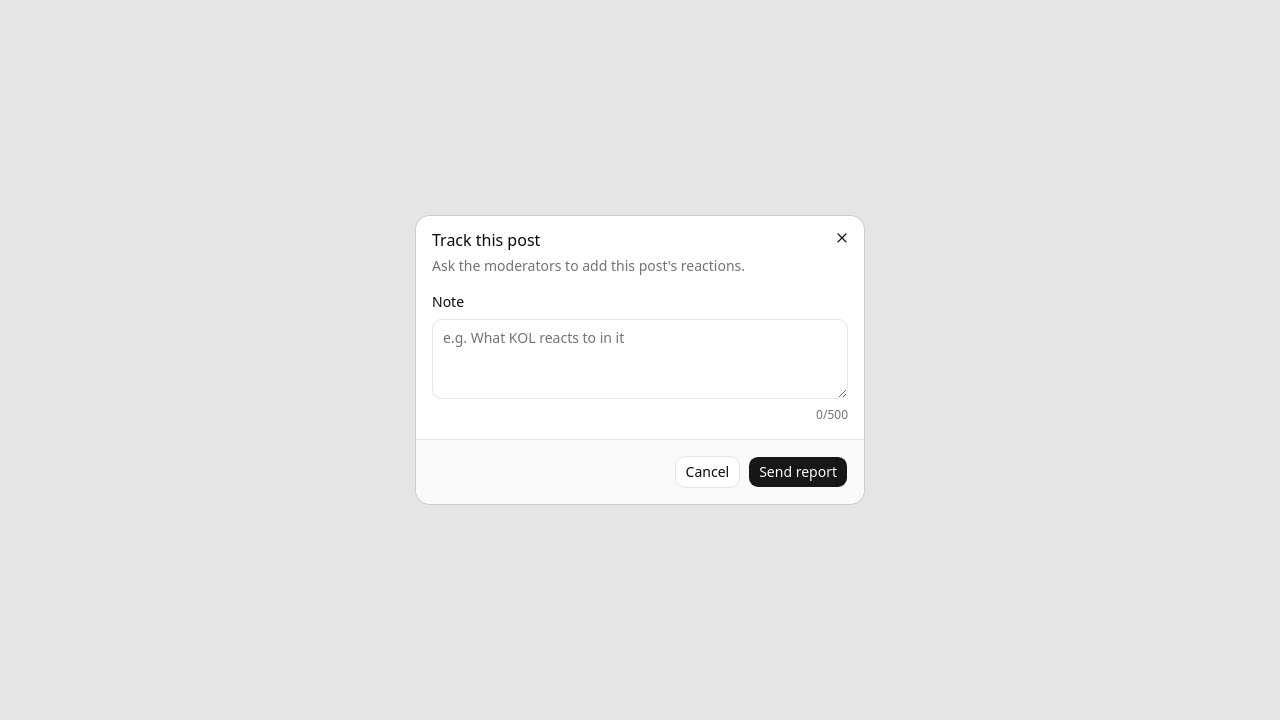
reportDialog › shows why a report was refused, and can be sent again
Click the button "Send report" at (798, 472), box [748,456,848,488]
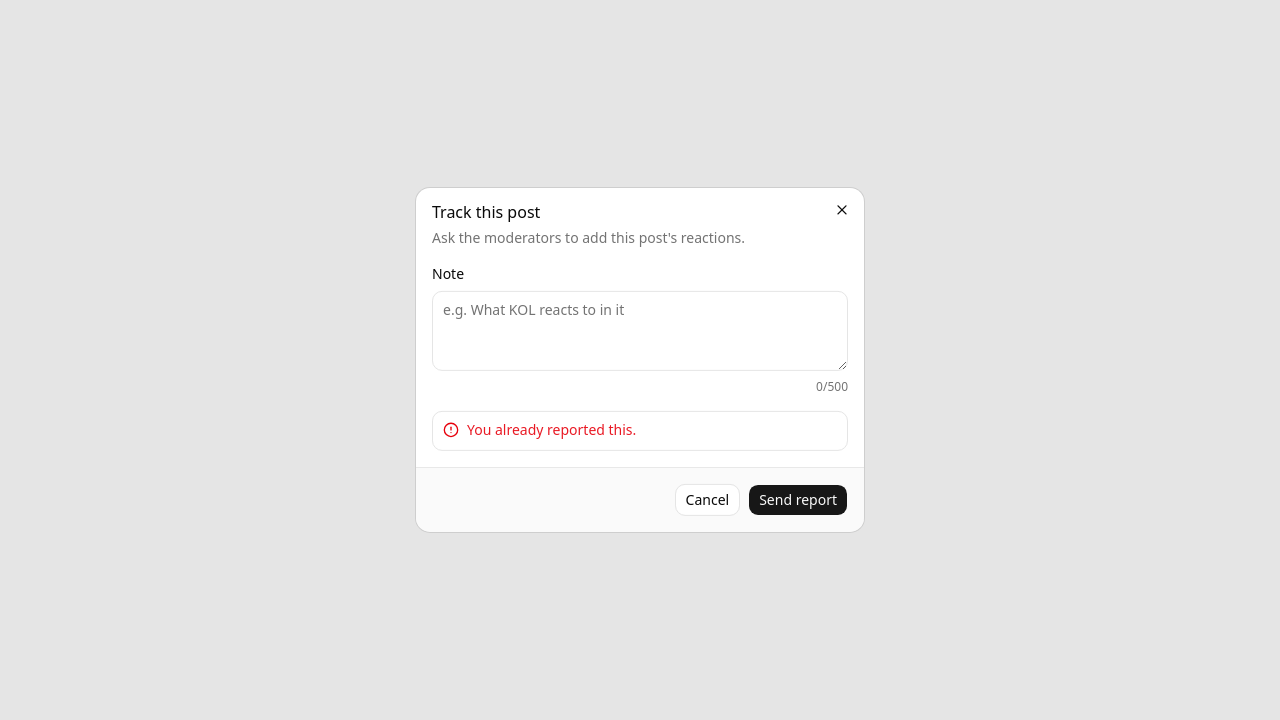
Result: the message reads "You already reported this." at [467,420,636,439]
Click the button "Send report" at (798, 500), box [748,484,848,516]
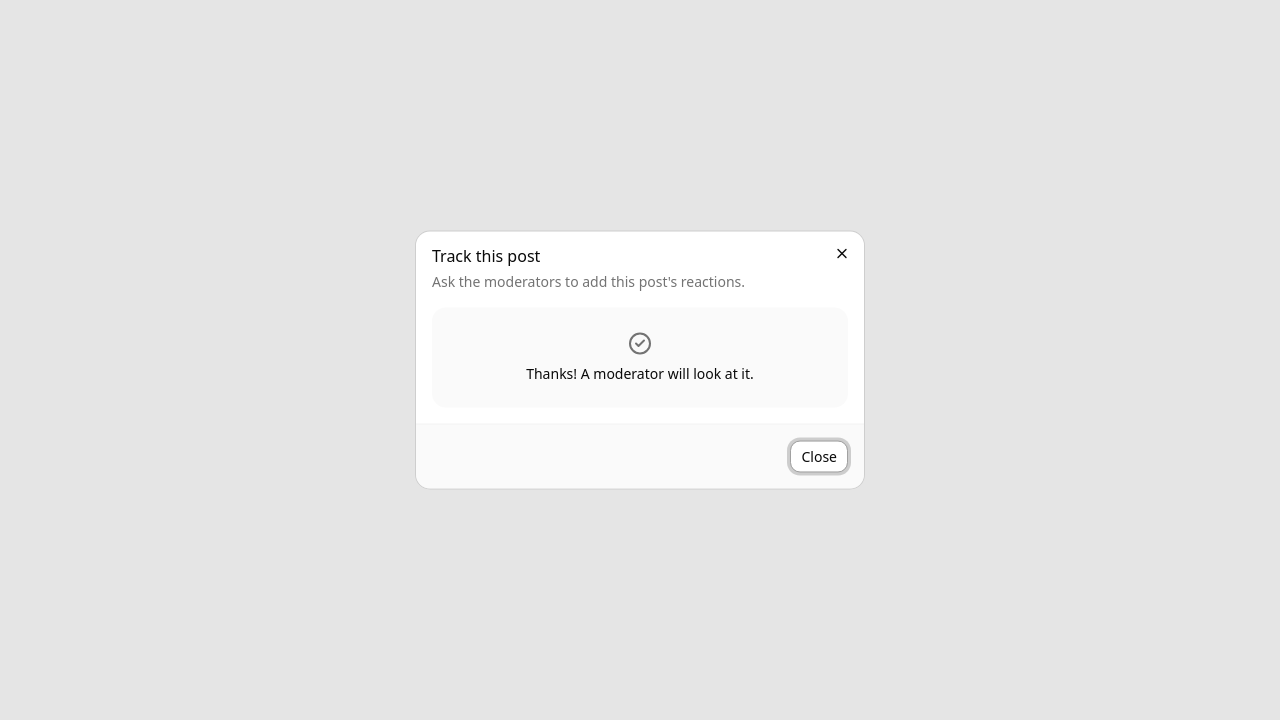
Result: the text "Thanks! A moderator will look at it." is shown at [526,364,754,384]
Result: the text "You already reported this." is gone
